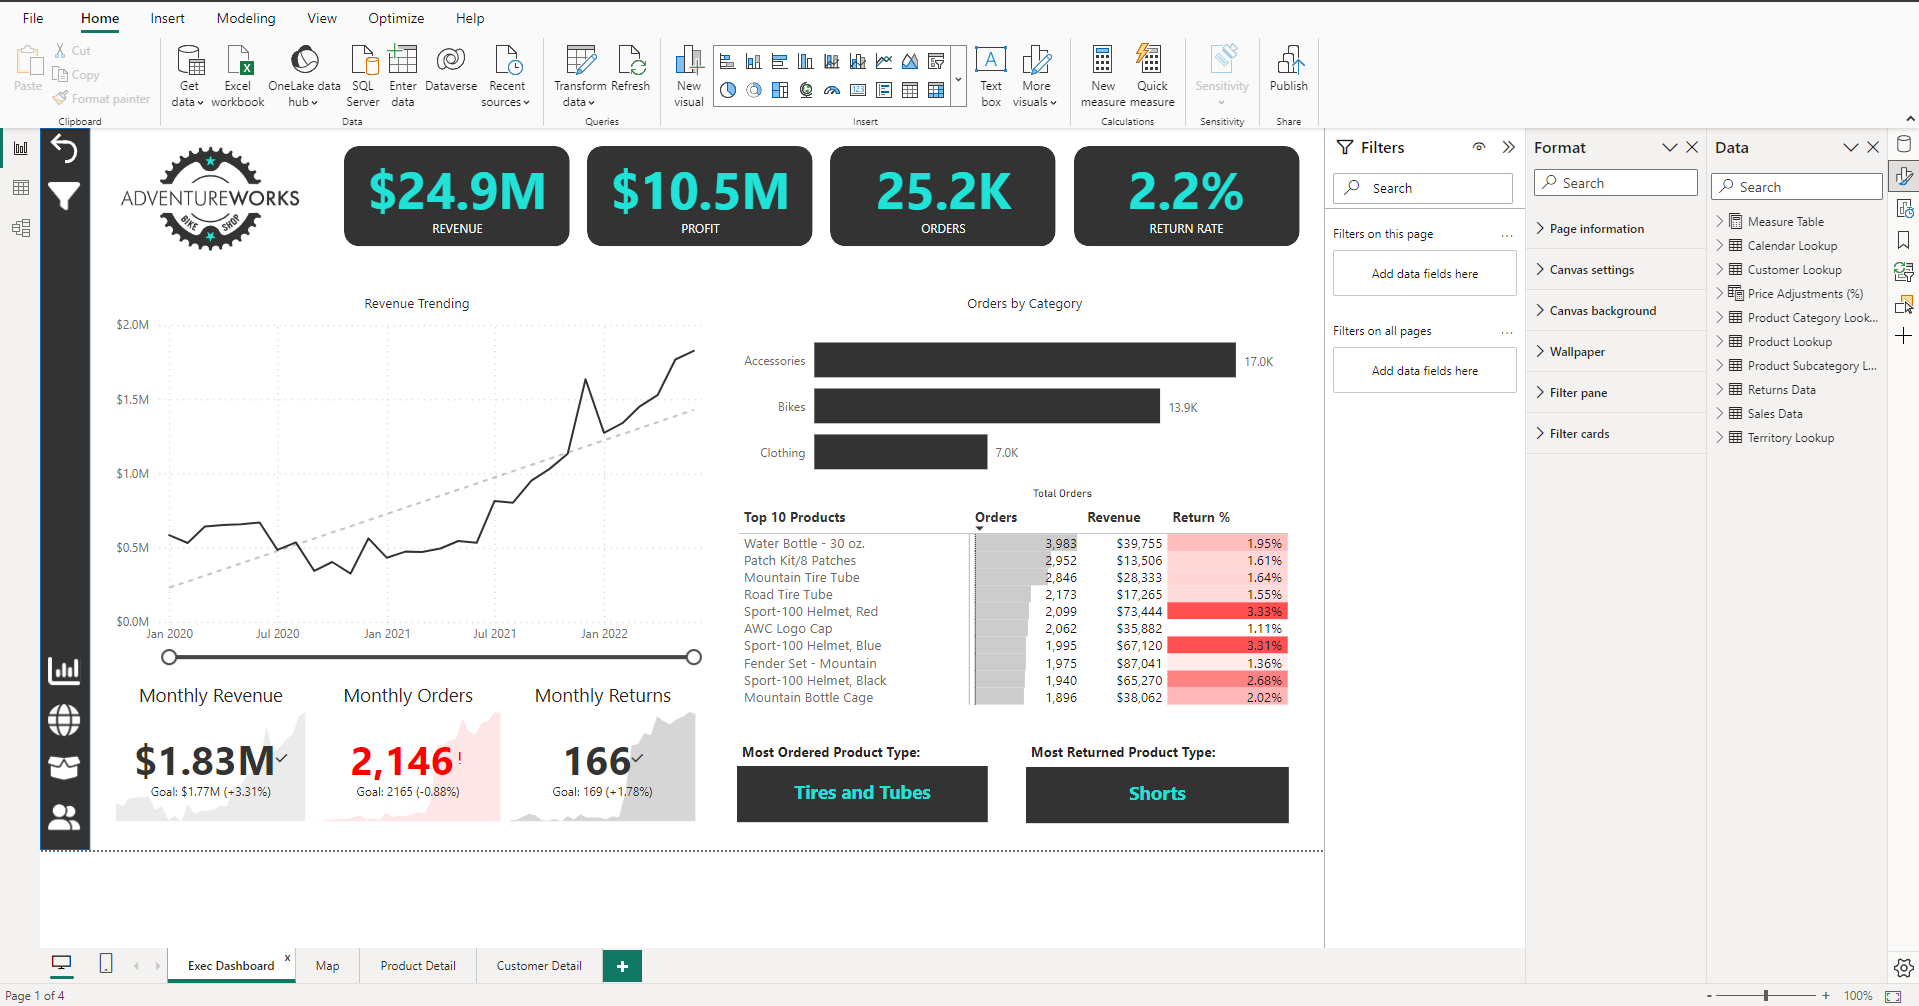

Layout of this report page (visuals, bound fields, positions):
{"tool":"powerbi","page":{"name":"Exec Dashboard","canvas":[1280,720],"ordinal":0},"visuals":[{"type":"image","title":"AW Logo","box":[0,11,339,119],"z":0},{"type":"shape","title":"KPI BG 4","box":[303,18,225,100],"z":0,"group":"g2"},{"type":"shape","title":"Left Nav BG","box":[0,0,50,720],"z":1000},{"type":"shape","title":"KPI BG 3","box":[545.3,18.3,225.2,100.2],"z":1000,"group":"g2"},{"type":"group","id":"g1","title":"KPIs","box":[287,0,985,135],"z":2000},{"type":"group","id":"g2","title":"KPI BGs","box":[303,18,952.6,100.5],"z":2000,"group":"g1"},{"type":"shape","title":"KPI BG 2","box":[787.8,18.3,225.2,100.2],"z":2000,"group":"g2"},{"type":"card","title":"Return Rate","fields":{"Values":["Measure Table.Return Rate"]},"box":[1014,0,258,135],"z":3000,"group":"g3"},{"type":"lineChart","title":"Revenue Trending","fields":{"Y":["Measure Table.Total Revenue"],"Category":["Calendar Lookup.Start of Year","Calendar Lookup.Start of Quarter","Calendar Lookup.Start of Month"]},"box":[71,165,610,373],"z":3000},{"type":"card","title":"Total Orders","fields":{"Values":["Measure Table.Total Orders"]},"box":[771,0,258,135],"z":4000,"group":"g3"},{"type":"shape","title":"KPI BG 1","box":[1030.3,18.3,225.2,100.2],"z":4000,"group":"g2"},{"type":"kpi","title":"Monthly Revenue","fields":{"Indicator":["Measure Table.Total Revenue"],"TrendLine":["Calendar Lookup.Start of Month"],"Goal":["Measure Table.Previous Month Revenue"]},"box":[70.7,552.5,199,143.6],"z":4000},{"type":"card","title":"Total Profit","fields":{"Values":["Measure Table.Total Profit"]},"box":[529,0,258,135],"z":5000,"group":"g3"},{"type":"kpi","title":"Monthly Orders","fields":{"TrendLine":["Calendar Lookup.Start of Month"],"Indicator":["Measure Table.Total Orders"],"Goal":["Measure Table.Previous Month Orders"]},"box":[269.7,552.5,193.6,143.6],"z":5000},{"type":"card","title":"Total Revenue","fields":{"Values":["Measure Table.Total Revenue"]},"box":[287,0,258,135],"z":5500,"group":"g3"},{"type":"group","id":"g3","title":"KPI Cards","box":[287,0,985,135],"z":5501,"group":"g1"},{"type":"kpi","title":"Monthly Returns","fields":{"TrendLine":["Calendar Lookup.Start of Month"],"Indicator":["Measure Table.Total Returns"],"Goal":["Measure Table.Previous Month Returns"]},"box":[463.3,552.5,194.7,143.6],"z":6000},{"type":"barChart","title":"Orders by Category","fields":{"Category":["Product Category Lookup.CategoryName"],"Y":["Measure Table.Total Orders"]},"box":[691.7,165.3,579.6,208.8],"z":7000},{"type":"pivotTable","fields":{"Values":["Measure Table.Total Orders","Measure Table.Total Revenue","Measure Table.Return Rate"],"Rows":["Product Lookup.ProductName"]},"box":[691.7,374.1,580.7,214.2],"z":8000},{"type":"card","fields":{"Values":["Min(Product Subcategory Lookup.SubcategoryName)"]},"box":[694.9,635.9,250,55.9],"z":9000},{"type":"textbox","box":[694.9,608.4,224.3,39],"z":10000},{"type":"card","fields":{"Values":["Min(Product Subcategory Lookup.SubcategoryName)"]},"box":[983.1,636.8,262.5,55.9],"z":11000},{"type":"textbox","box":[983,608,202,41],"z":12000},{"type":"actionButton","box":[4.4,0,39.9,39.9],"z":13000}]}

Visuals, with their boxes on the page's 1280x720 design canvas (x1, y1, x2, y2). These are canvas units, not pixel positions in the 1919x1006 screenshot, which may show the page scaled, cropped or inside an application window:
"AW Logo" image: pyautogui.locateOnScreen(0, 11, 339, 130)
"KPI BG 4" shape: pyautogui.locateOnScreen(303, 18, 528, 118)
"Left Nav BG" shape: pyautogui.locateOnScreen(0, 0, 50, 720)
"KPI BG 3" shape: pyautogui.locateOnScreen(545, 18, 770, 118)
"KPIs" group: pyautogui.locateOnScreen(287, 0, 1272, 135)
"KPI BGs" group: pyautogui.locateOnScreen(303, 18, 1256, 118)
"KPI BG 2" shape: pyautogui.locateOnScreen(788, 18, 1013, 118)
"Return Rate" card: pyautogui.locateOnScreen(1014, 0, 1272, 135)
"Revenue Trending" lineChart: pyautogui.locateOnScreen(71, 165, 681, 538)
"Total Orders" card: pyautogui.locateOnScreen(771, 0, 1029, 135)
"KPI BG 1" shape: pyautogui.locateOnScreen(1030, 18, 1256, 118)
"Monthly Revenue" kpi: pyautogui.locateOnScreen(71, 552, 270, 696)
"Total Profit" card: pyautogui.locateOnScreen(529, 0, 787, 135)
"Monthly Orders" kpi: pyautogui.locateOnScreen(270, 552, 463, 696)
"Total Revenue" card: pyautogui.locateOnScreen(287, 0, 545, 135)
"KPI Cards" group: pyautogui.locateOnScreen(287, 0, 1272, 135)
"Monthly Returns" kpi: pyautogui.locateOnScreen(463, 552, 658, 696)
"Orders by Category" barChart: pyautogui.locateOnScreen(692, 165, 1271, 374)
pivotTable - Measure Table.Total Orders x Measure Table.Total Revenue: pyautogui.locateOnScreen(692, 374, 1272, 588)
card - Min(Product Subcategory Lookup.SubcategoryName): pyautogui.locateOnScreen(695, 636, 945, 692)
textbox: pyautogui.locateOnScreen(695, 608, 919, 647)
card - Min(Product Subcategory Lookup.SubcategoryName): pyautogui.locateOnScreen(983, 637, 1246, 693)
textbox: pyautogui.locateOnScreen(983, 608, 1185, 649)
actionButton: pyautogui.locateOnScreen(4, 0, 44, 40)
